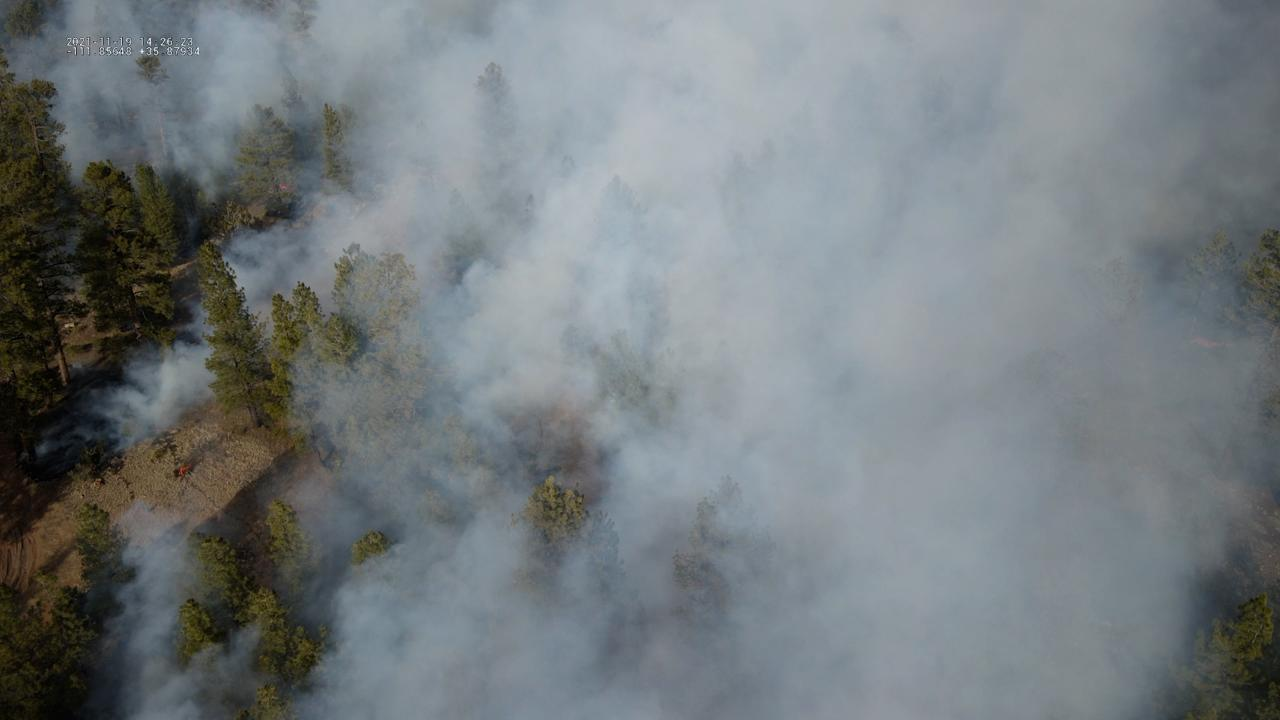fire: (1187, 336, 1226, 350), (178, 464, 194, 477), (277, 183, 290, 192)
smoke: (0, 0, 1280, 720)
